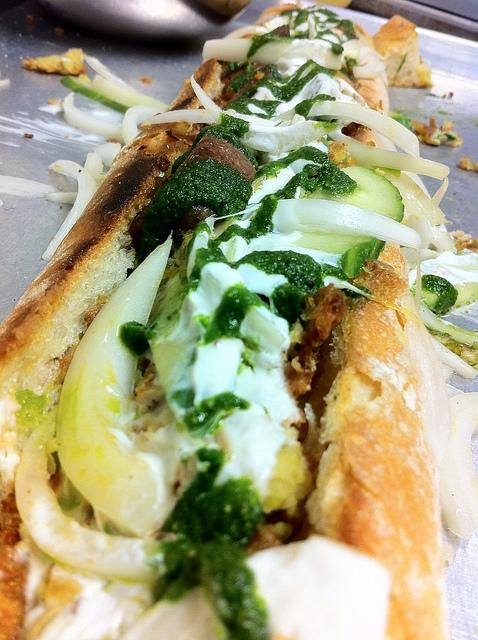cucumber: (310, 165, 405, 223)
onion: (55, 232, 176, 532), (14, 407, 161, 582), (322, 276, 450, 464), (190, 74, 339, 153), (270, 198, 420, 248), (306, 99, 420, 160), (42, 160, 99, 261), (440, 392, 478, 540), (202, 38, 344, 70), (346, 143, 450, 180), (382, 170, 446, 227), (64, 92, 124, 144), (426, 329, 478, 378), (86, 55, 140, 94), (340, 39, 386, 80), (120, 105, 166, 145), (410, 215, 456, 253), (141, 109, 216, 127), (93, 142, 122, 168), (400, 247, 441, 264), (84, 152, 102, 180), (45, 192, 78, 204), (273, 24, 290, 37)
